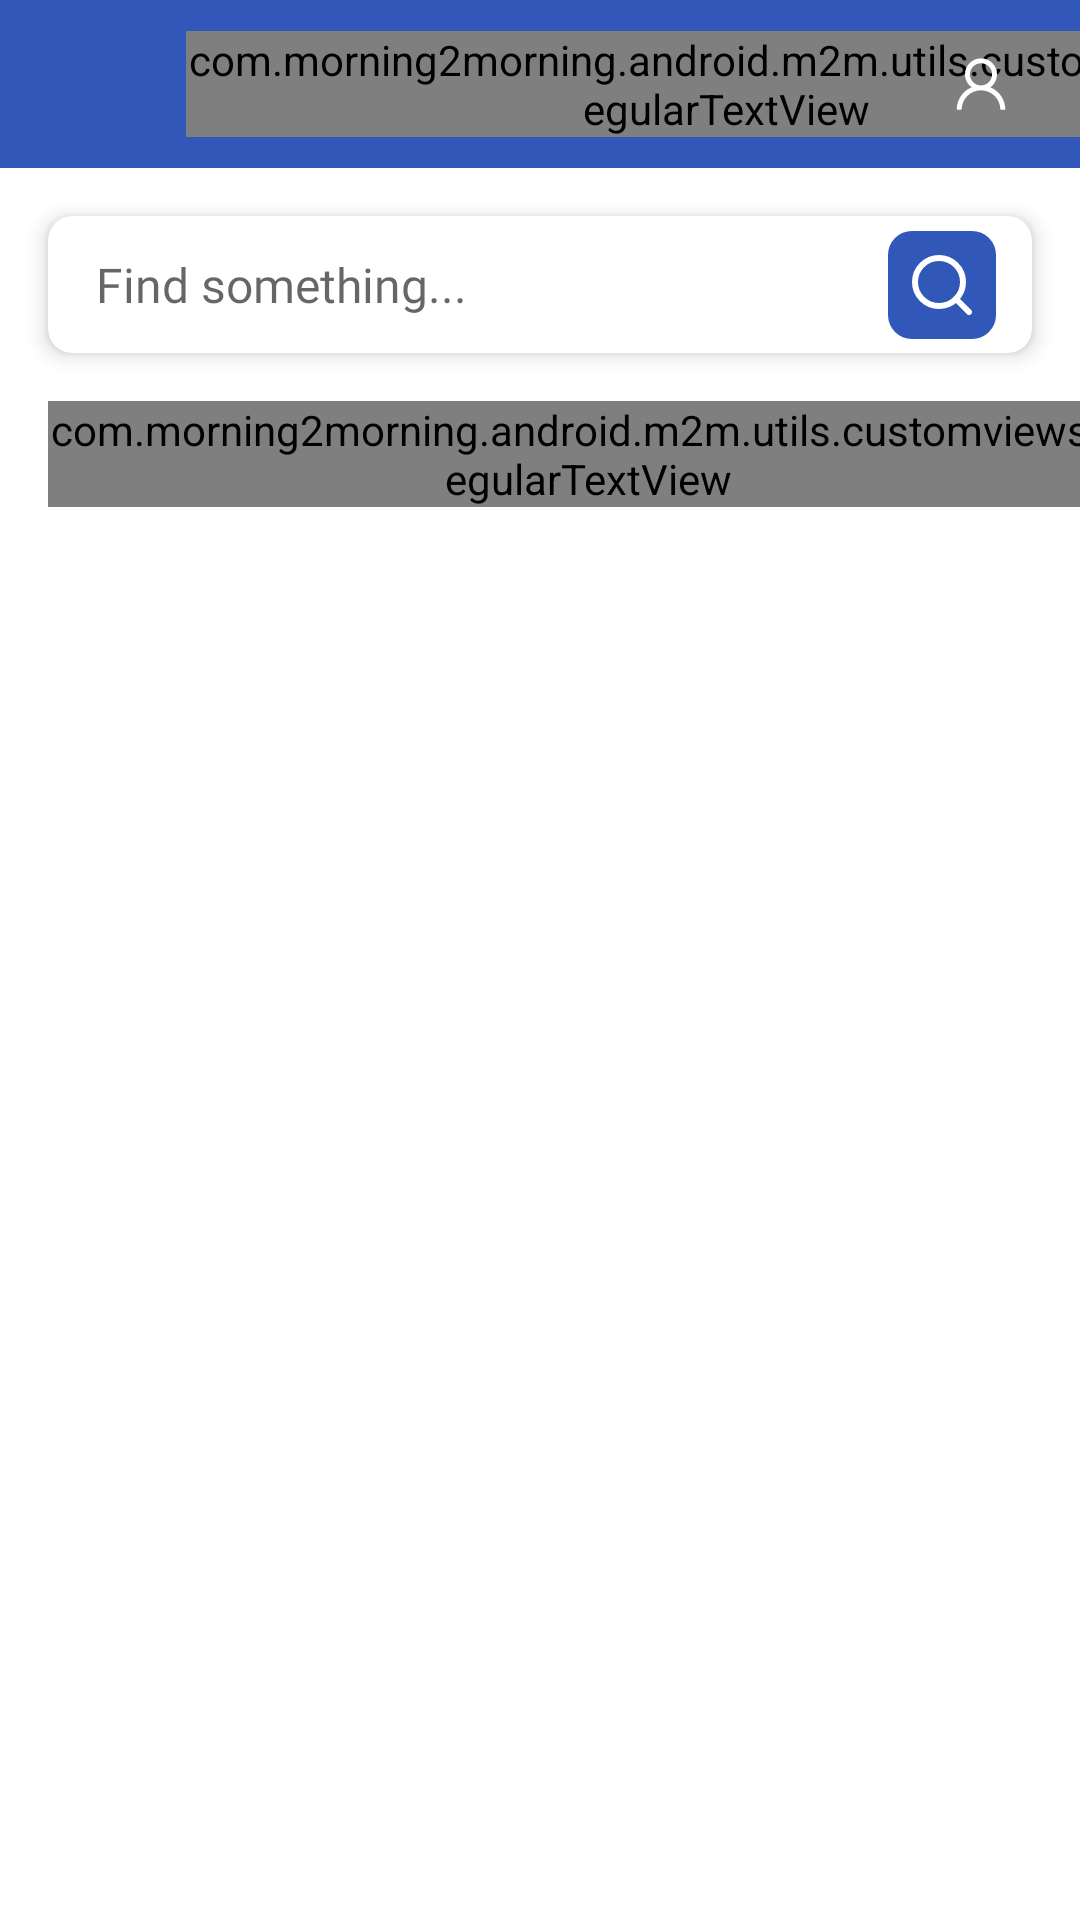

Screen size 1080 x 1920. Icon name, then its box in pixels as (x1, y1, x2, y2):
search: (912, 255, 972, 315)
